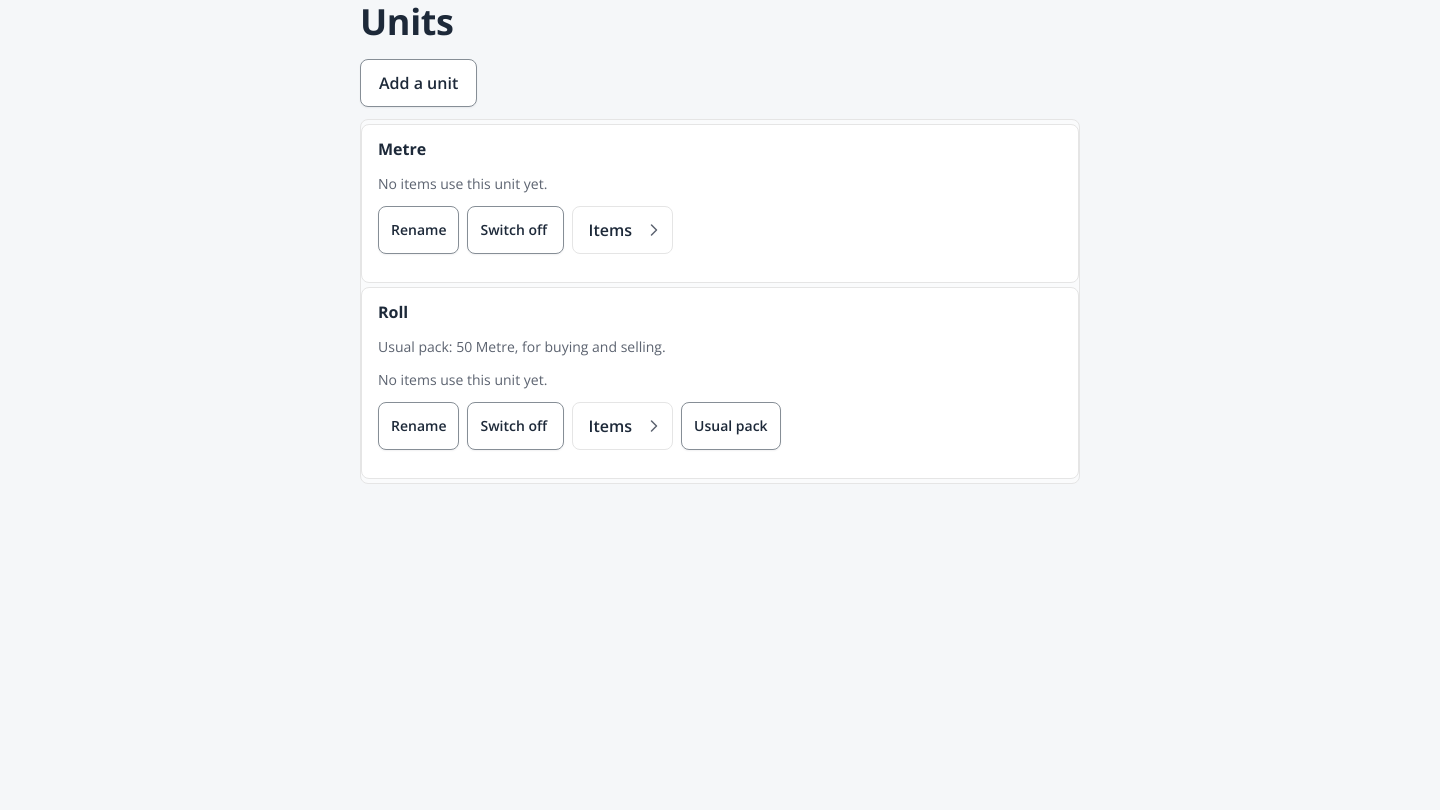
a usual pack on the Units page (issue #637) › names Used for once, by the choice itself, with no loose label beside it (issue #662)
Step 1. Click the button with aria-label "Usual pack of Roll" → coordinates (731, 426), box [681, 402, 781, 450]
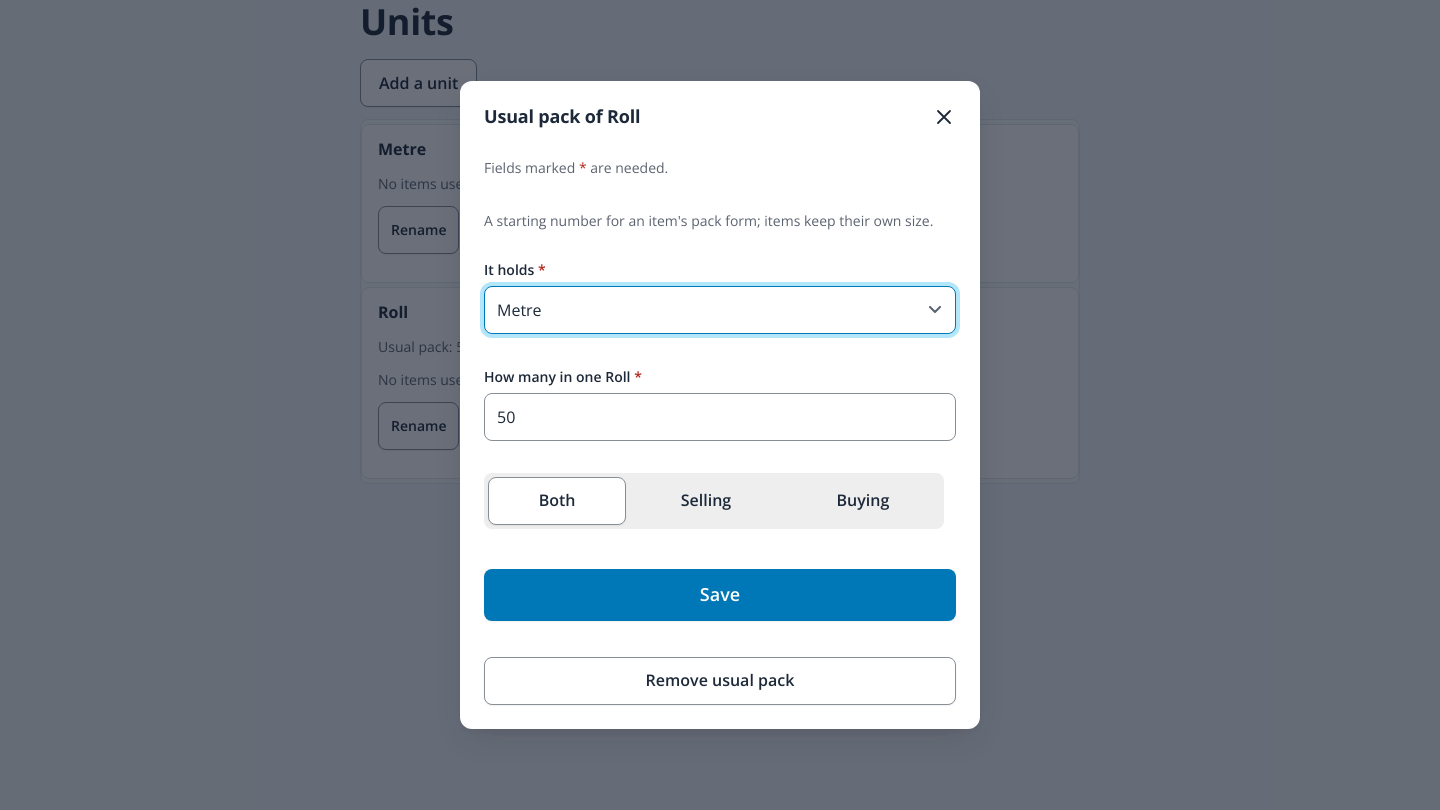
Expected: the element named "Used for" is shown, [484, 473, 944, 529]
